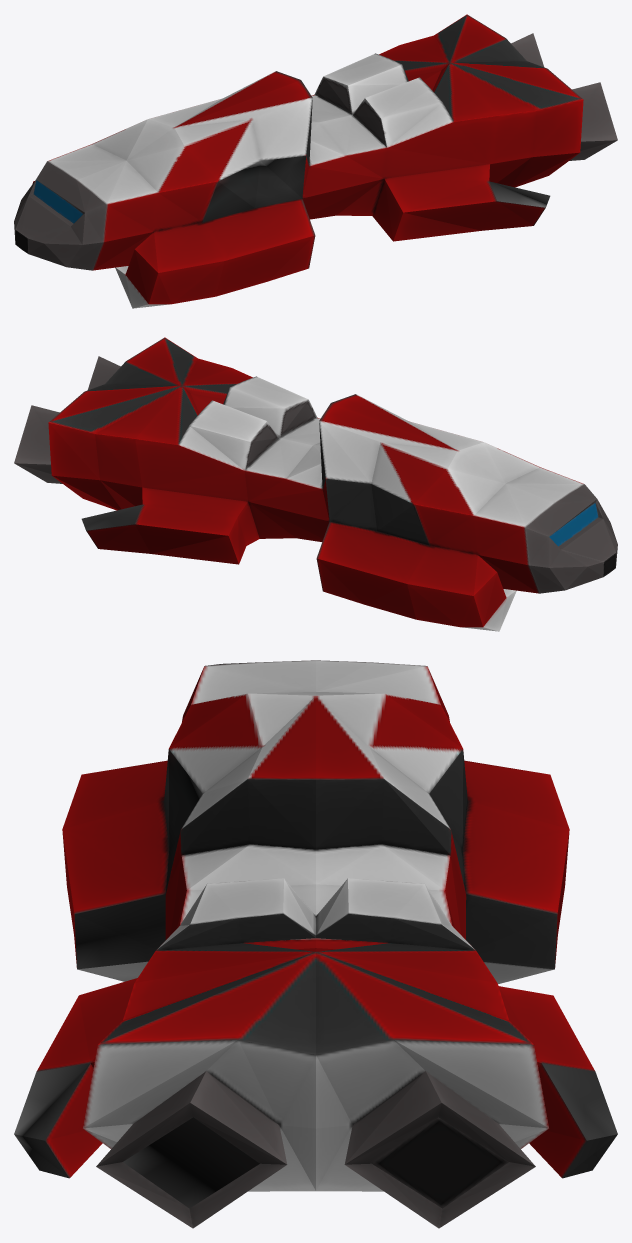
Rendered from CargoShip 1.FBX.
3 renders of one model, top to bottom at view 1: azimuth 30°, elevation 25°; view 2: azimuth 150°, elevation 25°; view 3: azimuth 270°, elevation 25°, orthographic. The views are drawn at different scales.
Visible parts, largest first — view 1: Cargo1; view 2: Cargo1; view 3: Cargo1.
Boxes of the visible parts, x1,y1,x2,y2 form: Cargo1: (14, 14, 617, 308); Cargo1: (14, 337, 617, 631); Cargo1: (14, 660, 617, 1228).
Size of the model in its own units: 424 by 108 by 217.
